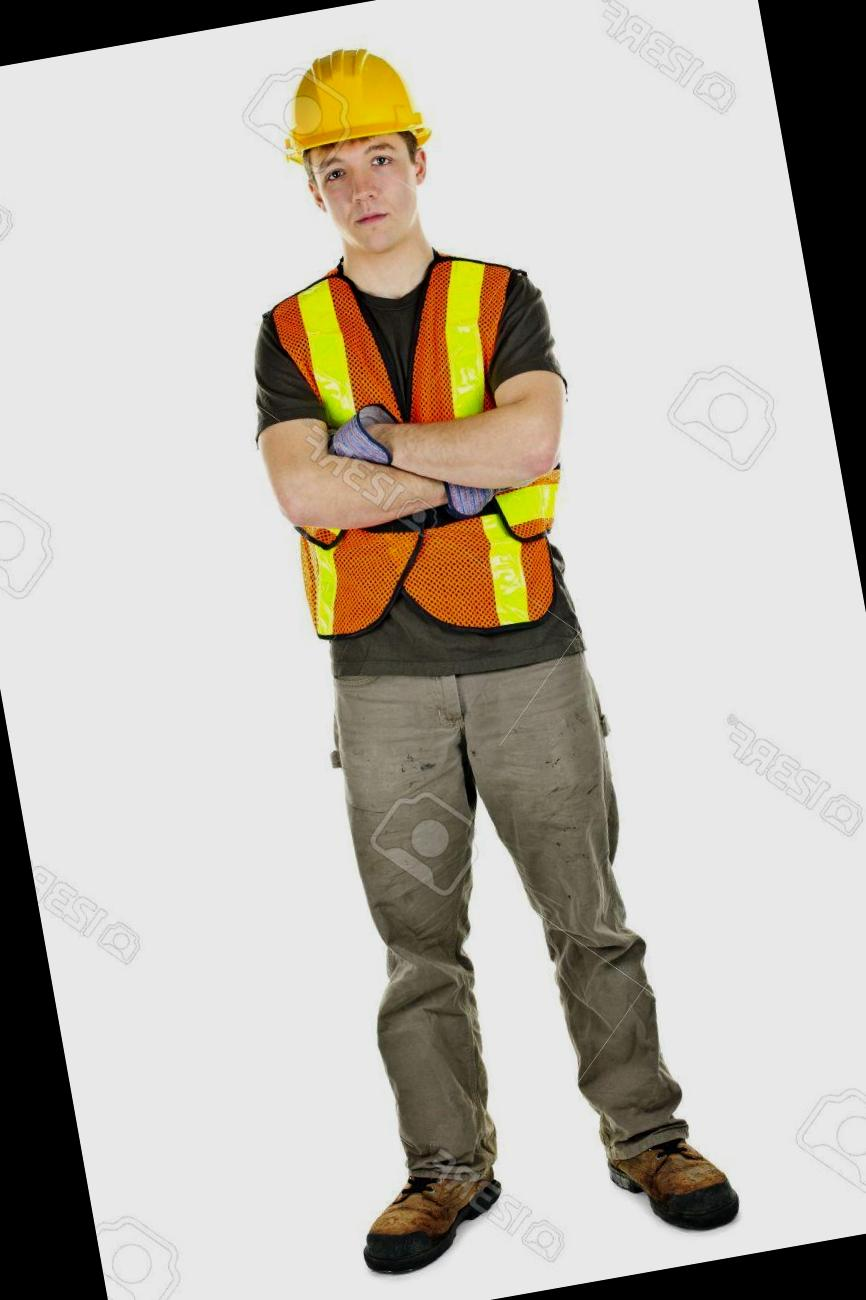helmet: (257, 34, 450, 188)
person: (161, 16, 746, 1294)
